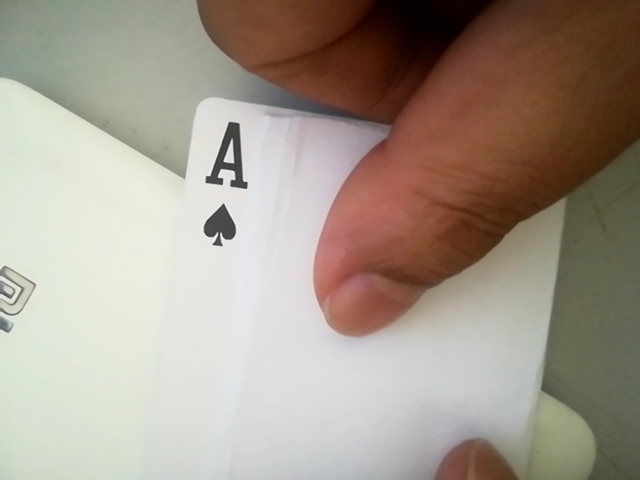ht a: (193, 112, 263, 259)
